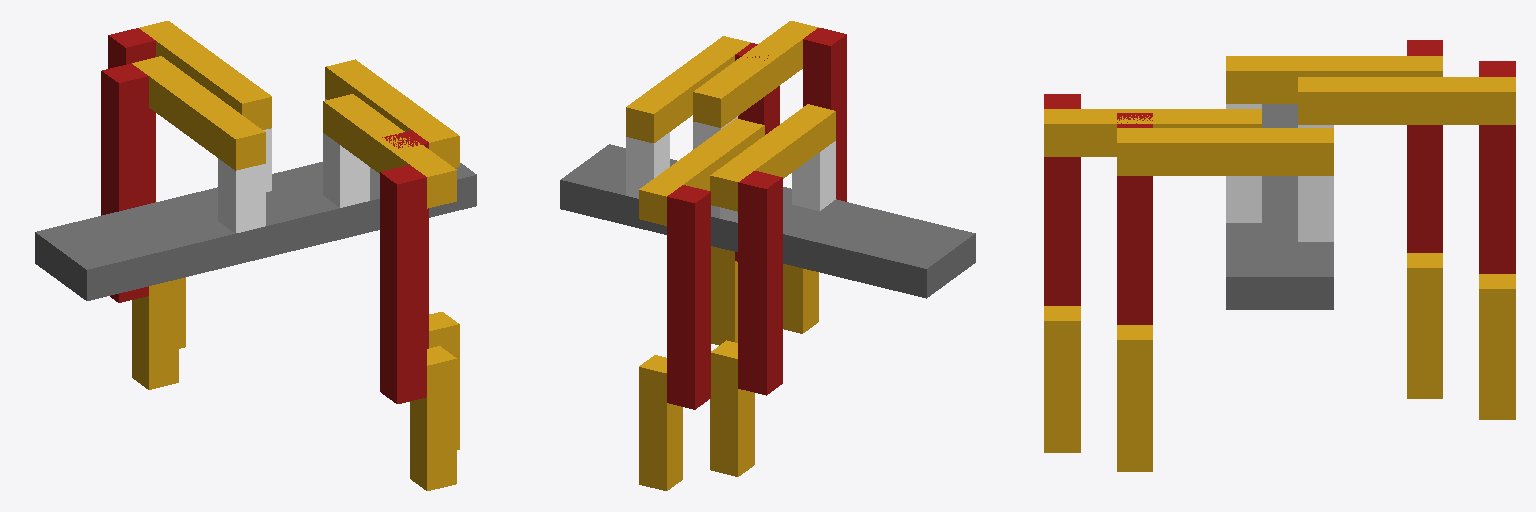
robot.urdf — v0:
<?xml version="1.0" encoding="utf-8"?>
<!-- =================================================================================== -->
<!-- |    This document was autogenerated by xacro from ../robots/v0variants/xacros/v0_4l_14.xacro | -->
<!-- |    EDITING THIS FILE BY HAND IS NOT RECOMMENDED                                 | -->
<!-- =================================================================================== -->
<robot name="v0">
  <material name="grey">
    <color rgba="0.5 0.5 0.5 1"/>
  </material>
  <material name="white">
    <color rgba="1 1 1 1"/>
  </material>
  <material name="yellow">
    <color rgba="0.91 0.7 0.14 1"/>
  </material>
  <material name="red">
    <color rgba="0.71 0.14 0.14 1"/>
  </material>
  <link name="body">
    <visual>
      <geometry>
        <box size="1.3 0.3 0.1"/>
      </geometry>
      <material name="grey"/>
      <origin rpy="0 0 0" xyz="0 0 0.7"/>
    </visual>
    <collision>
      <geometry>
        <box size="1.3 0.3 0.1"/>
      </geometry>
      <origin rpy="0 0 0" xyz="0 0 0.7"/>
    </collision>
    <inertial>
      <mass value="99.84"/>
      <inertia ixx="0.832" ixy="0.0" ixz="0.0" iyy="14.144" iyz="0.0" izz="14.8096"/>
    </inertial>
  </link>
  <link name="l1_segment_1">
    <visual>
      <geometry>
        <box size="0.1 0.1 0.2"/>
      </geometry>
      <material name="white"/>
      <origin rpy="0 0 0" xyz="0 0 0.1"/>
    </visual>
    <collision>
      <geometry>
        <box size="0.1 0.1 0.2"/>
      </geometry>
      <origin rpy="0 0 0" xyz="0 0 0.1"/>
    </collision>
    <inertial>
      <mass value="5.12"/>
      <inertia ixx="0.0213333333333" ixy="0.0" ixz="0.0" iyy="0.0213333333333" iyz="0.0" izz="0.00853333333333"/>
    </inertial>
  </link>
  <joint name="l1_base_to_joint_1" type="fixed">
    <parent link="body"/>
    <child link="l1_segment_1"/>
    <origin rpy="0 0 0" xyz="-0.1048172776572458 -0.1 0.75"/>
  </joint>
  <link name="l1_segment_2_HIP">
    <visual>
      <geometry>
        <box size="0.1 0.6 0.1"/>
      </geometry>
      <material name="yellow"/>
      <origin rpy="0 0 0" xyz="0 0.25 0"/>
    </visual>
    <collision>
      <geometry>
        <box size="0.1 0.6 0.1"/>
      </geometry>
      <origin rpy="0 0 0" xyz="0 0.25 0"/>
    </collision>
    <inertial>
      <mass value="15.36"/>
      <inertia ixx="0.4736" ixy="0.0" ixz="0.0" iyy="0.0256" iyz="0.0" izz="0.4736"/>
    </inertial>
  </link>
  <joint name="l1_joint_1_to_2" type="revolute">
    <parent link="l1_segment_1"/>
    <child link="l1_segment_2_HIP"/>
    <origin rpy="0 0 0" xyz="0 0 0.25"/>
    <axis xyz="0.0 0.0 1.0"/>
    <limit effort="2048" lower="-1.2" upper="1.2" velocity="20"/>
  </joint>
  <link name="l1_segment_3_THIGH">
    <visual>
      <geometry>
        <box size="0.1 0.1 0.7"/>
      </geometry>
      <material name="red"/>
      <origin rpy="0 0 0" xyz="0 0 -0.3"/>
    </visual>
    <collision>
      <geometry>
        <box size="0.1 0.1 0.7"/>
      </geometry>
      <origin rpy="0 0 0" xyz="0 0 -0.3"/>
    </collision>
    <inertial>
      <mass value="17.92"/>
      <inertia ixx="0.746666666667" ixy="0.0" ixz="0.0" iyy="0.746666666667" iyz="0.0" izz="0.0298666666667"/>
    </inertial>
  </link>
  <joint name="l1_joint_2_to_3" type="revolute">
    <parent link="l1_segment_2_HIP"/>
    <child link="l1_segment_3_THIGH"/>
    <origin rpy="0 0 0" xyz="-0.1 0.5 0"/>
    <axis xyz="1.0 0.0 0.0"/>
    <limit effort="2048" lower="-0.2" upper="0.75" velocity="20"/>
  </joint>
  <link name="l1_segment_4_FOOT">
    <visual>
      <geometry>
        <box size="0.1 0.1 0.4"/>
      </geometry>
      <material name="yellow"/>
      <origin rpy="0 0 0" xyz="0 0 -0.2"/>
    </visual>
    <collision>
      <geometry>
        <box size="0.1 0.1 0.4"/>
      </geometry>
      <origin rpy="0 0 0" xyz="0 0 -0.2"/>
    </collision>
    <inertial>
      <mass value="10.24"/>
      <inertia ixx="0.145066666667" ixy="0.0" ixz="0.0" iyy="0.145066666667" iyz="0.0" izz="0.0170666666667"/>
    </inertial>
  </link>
  <joint name="l1_joint_3_to_4_FOOT" type="revolute">
    <parent link="l1_segment_3_THIGH"/>
    <child link="l1_segment_4_FOOT"/>
    <origin rpy="0 0 0" xyz="0.1 0 -0.55"/>
    <axis xyz="1.0 0.0 0.0"/>
    <limit effort="2048" lower="-0.2" upper="0.5" velocity="20"/>
  </joint>
  <link name="r2_segment_1">
    <visual>
      <geometry>
        <box size="0.1 0.1 0.2"/>
      </geometry>
      <material name="white"/>
      <origin rpy="0 0 0" xyz="0 0 0.1"/>
    </visual>
    <collision>
      <geometry>
        <box size="0.1 0.1 0.2"/>
      </geometry>
      <origin rpy="0 0 0" xyz="0 0 0.1"/>
    </collision>
    <inertial>
      <mass value="5.12"/>
      <inertia ixx="0.0213333333333" ixy="0.0" ixz="0.0" iyy="0.0213333333333" iyz="0.0" izz="0.00853333333333"/>
    </inertial>
  </link>
  <joint name="r2_base_to_joint_1" type="fixed">
    <parent link="body"/>
    <child link="r2_segment_1"/>
    <origin rpy="0 0 0" xyz="0.24465193234517424 -0.1 0.75"/>
  </joint>
  <link name="r2_segment_2_HIP">
    <visual>
      <geometry>
        <box size="0.1 0.6 0.1"/>
      </geometry>
      <material name="yellow"/>
      <origin rpy="0 0 0" xyz="0 -0.25 0"/>
    </visual>
    <collision>
      <geometry>
        <box size="0.1 0.6 0.1"/>
      </geometry>
      <origin rpy="0 0 0" xyz="0 -0.25 0"/>
    </collision>
    <inertial>
      <mass value="15.36"/>
      <inertia ixx="0.4736" ixy="0.0" ixz="0.0" iyy="0.0256" iyz="0.0" izz="0.4736"/>
    </inertial>
  </link>
  <joint name="r2_joint_1_to_2" type="revolute">
    <parent link="r2_segment_1"/>
    <child link="r2_segment_2_HIP"/>
    <origin rpy="0 0 0" xyz="0 0 0.25"/>
    <axis xyz="0.0 0.0 1.0"/>
    <limit effort="2048" lower="-1.2" upper="1.2" velocity="20"/>
  </joint>
  <link name="r2_segment_3_THIGH">
    <visual>
      <geometry>
        <box size="0.1 0.1 0.7"/>
      </geometry>
      <material name="red"/>
      <origin rpy="0 0 0" xyz="0 0 -0.3"/>
    </visual>
    <collision>
      <geometry>
        <box size="0.1 0.1 0.7"/>
      </geometry>
      <origin rpy="0 0 0" xyz="0 0 -0.3"/>
    </collision>
    <inertial>
      <mass value="17.92"/>
      <inertia ixx="0.746666666667" ixy="0.0" ixz="0.0" iyy="0.746666666667" iyz="0.0" izz="0.0298666666667"/>
    </inertial>
  </link>
  <joint name="r2_joint_2_to_3" type="revolute">
    <parent link="r2_segment_2_HIP"/>
    <child link="r2_segment_3_THIGH"/>
    <origin rpy="0 0 0" xyz="-0.1 -0.5 0"/>
    <axis xyz="1.0 0.0 0.0"/>
    <limit effort="2048" lower="-0.75" upper="0.2" velocity="20"/>
  </joint>
  <link name="r2_segment_4_FOOT">
    <visual>
      <geometry>
        <box size="0.1 0.1 0.4"/>
      </geometry>
      <material name="yellow"/>
      <origin rpy="0 0 0" xyz="0 0 -0.2"/>
    </visual>
    <collision>
      <geometry>
        <box size="0.1 0.1 0.4"/>
      </geometry>
      <origin rpy="0 0 0" xyz="0 0 -0.2"/>
    </collision>
    <inertial>
      <mass value="10.24"/>
      <inertia ixx="0.145066666667" ixy="0.0" ixz="0.0" iyy="0.145066666667" iyz="0.0" izz="0.0170666666667"/>
    </inertial>
  </link>
  <joint name="r2_joint_3_to_4_FOOT" type="revolute">
    <parent link="r2_segment_3_THIGH"/>
    <child link="r2_segment_4_FOOT"/>
    <origin rpy="0 0 0" xyz="0.1 0 -0.55"/>
    <axis xyz="1.0 0.0 0.0"/>
    <limit effort="2048" lower="-0.5" upper="0.2" velocity="20"/>
  </joint>
  <link name="l3_segment_1">
    <visual>
      <geometry>
        <box size="0.1 0.1 0.2"/>
      </geometry>
      <material name="white"/>
      <origin rpy="0 0 0" xyz="0 0 0.1"/>
    </visual>
    <collision>
      <geometry>
        <box size="0.1 0.1 0.2"/>
      </geometry>
      <origin rpy="0 0 0" xyz="0 0 0.1"/>
    </collision>
    <inertial>
      <mass value="5.12"/>
      <inertia ixx="0.0213333333333" ixy="0.0" ixz="0.0" iyy="0.0213333333333" iyz="0.0" izz="0.00853333333333"/>
    </inertial>
  </link>
  <joint name="l3_base_to_joint_1" type="fixed">
    <parent link="body"/>
    <child link="l3_segment_1"/>
    <origin rpy="0 0 0" xyz="0.03352149762445189 0.1 0.75"/>
  </joint>
  <link name="l3_segment_2_HIP">
    <visual>
      <geometry>
        <box size="0.1 0.6 0.1"/>
      </geometry>
      <material name="yellow"/>
      <origin rpy="0 0 0" xyz="0 0.25 0"/>
    </visual>
    <collision>
      <geometry>
        <box size="0.1 0.6 0.1"/>
      </geometry>
      <origin rpy="0 0 0" xyz="0 0.25 0"/>
    </collision>
    <inertial>
      <mass value="15.36"/>
      <inertia ixx="0.4736" ixy="0.0" ixz="0.0" iyy="0.0256" iyz="0.0" izz="0.4736"/>
    </inertial>
  </link>
  <joint name="l3_joint_1_to_2" type="revolute">
    <parent link="l3_segment_1"/>
    <child link="l3_segment_2_HIP"/>
    <origin rpy="0 0 0" xyz="0 0 0.25"/>
    <axis xyz="0.0 0.0 1.0"/>
    <limit effort="2048" lower="-1.2" upper="1.2" velocity="20"/>
  </joint>
  <link name="l3_segment_3_THIGH">
    <visual>
      <geometry>
        <box size="0.1 0.1 0.7"/>
      </geometry>
      <material name="red"/>
      <origin rpy="0 0 0" xyz="0 0 -0.3"/>
    </visual>
    <collision>
      <geometry>
        <box size="0.1 0.1 0.7"/>
      </geometry>
      <origin rpy="0 0 0" xyz="0 0 -0.3"/>
    </collision>
    <inertial>
      <mass value="17.92"/>
      <inertia ixx="0.746666666667" ixy="0.0" ixz="0.0" iyy="0.746666666667" iyz="0.0" izz="0.0298666666667"/>
    </inertial>
  </link>
  <joint name="l3_joint_2_to_3" type="revolute">
    <parent link="l3_segment_2_HIP"/>
    <child link="l3_segment_3_THIGH"/>
    <origin rpy="0 0 0" xyz="-0.1 0.5 0"/>
    <axis xyz="1.0 0.0 0.0"/>
    <limit effort="2048" lower="-0.2" upper="0.75" velocity="20"/>
  </joint>
  <link name="l3_segment_4_FOOT">
    <visual>
      <geometry>
        <box size="0.1 0.1 0.4"/>
      </geometry>
      <material name="yellow"/>
      <origin rpy="0 0 0" xyz="0 0 -0.2"/>
    </visual>
    <collision>
      <geometry>
        <box size="0.1 0.1 0.4"/>
      </geometry>
      <origin rpy="0 0 0" xyz="0 0 -0.2"/>
    </collision>
    <inertial>
      <mass value="10.24"/>
      <inertia ixx="0.145066666667" ixy="0.0" ixz="0.0" iyy="0.145066666667" iyz="0.0" izz="0.0170666666667"/>
    </inertial>
  </link>
  <joint name="l3_joint_3_to_4_FOOT" type="revolute">
    <parent link="l3_segment_3_THIGH"/>
    <child link="l3_segment_4_FOOT"/>
    <origin rpy="0 0 0" xyz="0.1 0 -0.55"/>
    <axis xyz="1.0 0.0 0.0"/>
    <limit effort="2048" lower="-0.2" upper="0.5" velocity="20"/>
  </joint>
  <link name="r4_segment_1">
    <visual>
      <geometry>
        <box size="0.1 0.1 0.2"/>
      </geometry>
      <material name="white"/>
      <origin rpy="0 0 0" xyz="0 0 0.1"/>
    </visual>
    <collision>
      <geometry>
        <box size="0.1 0.1 0.2"/>
      </geometry>
      <origin rpy="0 0 0" xyz="0 0 0.1"/>
    </collision>
    <inertial>
      <mass value="5.12"/>
      <inertia ixx="0.0213333333333" ixy="0.0" ixz="0.0" iyy="0.0213333333333" iyz="0.0" izz="0.00853333333333"/>
    </inertial>
  </link>
  <joint name="r4_base_to_joint_1" type="fixed">
    <parent link="body"/>
    <child link="r4_segment_1"/>
    <origin rpy="0 0 0" xyz="0.36799692146966756 0.1 0.75"/>
  </joint>
  <link name="r4_segment_2_HIP">
    <visual>
      <geometry>
        <box size="0.1 0.6 0.1"/>
      </geometry>
      <material name="yellow"/>
      <origin rpy="0 0 0" xyz="0 -0.25 0"/>
    </visual>
    <collision>
      <geometry>
        <box size="0.1 0.6 0.1"/>
      </geometry>
      <origin rpy="0 0 0" xyz="0 -0.25 0"/>
    </collision>
    <inertial>
      <mass value="15.36"/>
      <inertia ixx="0.4736" ixy="0.0" ixz="0.0" iyy="0.0256" iyz="0.0" izz="0.4736"/>
    </inertial>
  </link>
  <joint name="r4_joint_1_to_2" type="revolute">
    <parent link="r4_segment_1"/>
    <child link="r4_segment_2_HIP"/>
    <origin rpy="0 0 0" xyz="0 0 0.25"/>
    <axis xyz="0.0 0.0 1.0"/>
    <limit effort="2048" lower="-1.2" upper="1.2" velocity="20"/>
  </joint>
  <link name="r4_segment_3_THIGH">
    <visual>
      <geometry>
        <box size="0.1 0.1 0.7"/>
      </geometry>
      <material name="red"/>
      <origin rpy="0 0 0" xyz="0 0 -0.3"/>
    </visual>
    <collision>
      <geometry>
        <box size="0.1 0.1 0.7"/>
      </geometry>
      <origin rpy="0 0 0" xyz="0 0 -0.3"/>
    </collision>
    <inertial>
      <mass value="17.92"/>
      <inertia ixx="0.746666666667" ixy="0.0" ixz="0.0" iyy="0.746666666667" iyz="0.0" izz="0.0298666666667"/>
    </inertial>
  </link>
  <joint name="r4_joint_2_to_3" type="revolute">
    <parent link="r4_segment_2_HIP"/>
    <child link="r4_segment_3_THIGH"/>
    <origin rpy="0 0 0" xyz="-0.1 -0.5 0"/>
    <axis xyz="1.0 0.0 0.0"/>
    <limit effort="2048" lower="-0.75" upper="0.2" velocity="20"/>
  </joint>
  <link name="r4_segment_4_FOOT">
    <visual>
      <geometry>
        <box size="0.1 0.1 0.4"/>
      </geometry>
      <material name="yellow"/>
      <origin rpy="0 0 0" xyz="0 0 -0.2"/>
    </visual>
    <collision>
      <geometry>
        <box size="0.1 0.1 0.4"/>
      </geometry>
      <origin rpy="0 0 0" xyz="0 0 -0.2"/>
    </collision>
    <inertial>
      <mass value="10.24"/>
      <inertia ixx="0.145066666667" ixy="0.0" ixz="0.0" iyy="0.145066666667" iyz="0.0" izz="0.0170666666667"/>
    </inertial>
  </link>
  <joint name="r4_joint_3_to_4_FOOT" type="revolute">
    <parent link="r4_segment_3_THIGH"/>
    <child link="r4_segment_4_FOOT"/>
    <origin rpy="0 0 0" xyz="0.1 0 -0.55"/>
    <axis xyz="1.0 0.0 0.0"/>
    <limit effort="2048" lower="-0.5" upper="0.2" velocity="20"/>
  </joint>
</robot>

--- Render facts (derived) ---
3 views of the same robot in one strip: view 1: azimuth 30°, elevation 25°; view 2: azimuth 150°, elevation 25°; view 3: azimuth 270°, elevation 25° (orthographic).
Robot: v0 — 17 links, 16 joints (12 revolute, 4 fixed); root link body; default pose: every joint at zero.
Visible links, largest first — view 1: body, r2_segment_3_THIGH, l1_segment_3_THIGH, l1_segment_2_HIP, r2_segment_2_HIP, r2_segment_4_FOOT, l3_segment_2_HIP, r4_segment_2_HIP, l1_segment_4_FOOT, l1_segment_1, r2_segment_1, l3_segment_3_THIGH (+2 smaller); view 2: body, l1_segment_3_THIGH, l3_segment_3_THIGH, r2_segment_2_HIP, l1_segment_2_HIP, l1_segment_4_FOOT, r4_segment_2_HIP, l3_segment_4_FOOT, l3_segment_2_HIP, r2_segment_3_THIGH, r4_segment_4_FOOT, r2_segment_4_FOOT (+3 smaller); view 3: body, l3_segment_2_HIP, r4_segment_2_HIP, l1_segment_2_HIP, l3_segment_3_THIGH, r2_segment_3_THIGH, r2_segment_2_HIP, r4_segment_3_THIGH, r2_segment_4_FOOT, l3_segment_4_FOOT, r4_segment_4_FOOT, l1_segment_4_FOOT (+3 smaller).
Link boxes in pixels (x1,y1,x2,y2): body: (35, 162, 476, 300); r2_segment_3_THIGH: (380, 165, 426, 403); l1_segment_3_THIGH: (101, 63, 148, 302); l1_segment_2_HIP: (132, 56, 265, 170); r2_segment_2_HIP: (323, 94, 456, 208); r2_segment_4_FOOT: (410, 346, 456, 490); l3_segment_2_HIP: (139, 21, 271, 129); r4_segment_2_HIP: (325, 59, 459, 167); l1_segment_4_FOOT: (132, 279, 178, 389); l1_segment_1: (218, 158, 265, 233); r2_segment_1: (323, 133, 369, 207); l3_segment_3_THIGH: (108, 28, 155, 203); body: (560, 144, 975, 298); l1_segment_3_THIGH: (738, 171, 782, 395); l3_segment_3_THIGH: (667, 185, 710, 409); r2_segment_2_HIP: (693, 21, 818, 127); l1_segment_2_HIP: (710, 104, 835, 211); l1_segment_4_FOOT: (710, 340, 754, 476); r4_segment_2_HIP: (626, 36, 750, 142); l3_segment_4_FOOT: (639, 355, 682, 490); l3_segment_2_HIP: (639, 118, 764, 225); r2_segment_3_THIGH: (803, 28, 846, 201); r4_segment_4_FOOT: (711, 246, 737, 345); r2_segment_4_FOOT: (783, 264, 818, 333); body: (1226, 104, 1333, 309); l3_segment_2_HIP: (1298, 77, 1515, 124); r4_segment_2_HIP: (1117, 128, 1333, 175); l1_segment_2_HIP: (1226, 56, 1442, 103); l3_segment_3_THIGH: (1479, 61, 1515, 273); r2_segment_3_THIGH: (1044, 94, 1080, 305); r2_segment_2_HIP: (1044, 109, 1261, 156); r4_segment_3_THIGH: (1117, 113, 1152, 324); r2_segment_4_FOOT: (1044, 306, 1080, 452); l3_segment_4_FOOT: (1479, 274, 1515, 419); r4_segment_4_FOOT: (1117, 325, 1152, 471); l1_segment_4_FOOT: (1407, 253, 1442, 398).
Bounding box of the posed robot: 1.3 × 1.3 × 1 m (x, y, z).
Geometry: primitives only (box / cylinder / sphere), no mesh files.